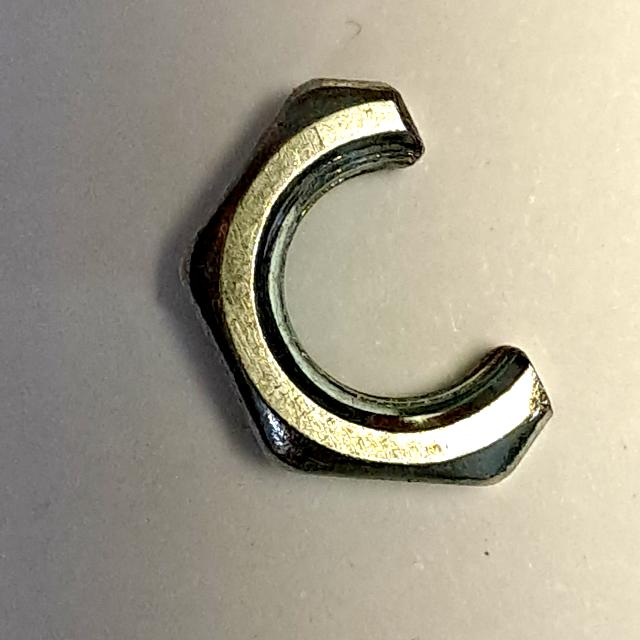Fracture: (162, 57, 567, 506)
